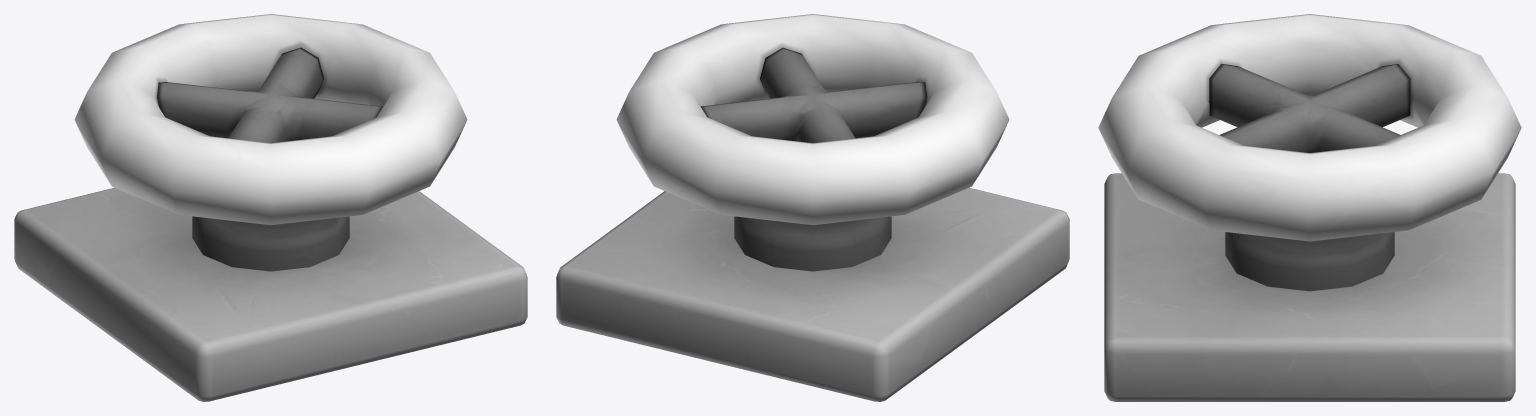
The model's file is Controller_05.fbx.
The picture shows the model from 3 angles, left to right: view 1: azimuth 30°, elevation 25°; view 2: azimuth 150°, elevation 25°; view 3: azimuth 270°, elevation 25°; orthographic projection. The views are drawn at different scales.
Visible parts, largest first — view 1: Controller_05; view 2: Controller_05; view 3: Controller_05.
Part boxes in pixels (x1,y1,x2,y2): Controller_05: (14, 14, 527, 401); Controller_05: (556, 14, 1069, 401); Controller_05: (1098, 14, 1521, 401).
Bounding box in the file's own units: 1.8 × 1.1 × 1.8.
